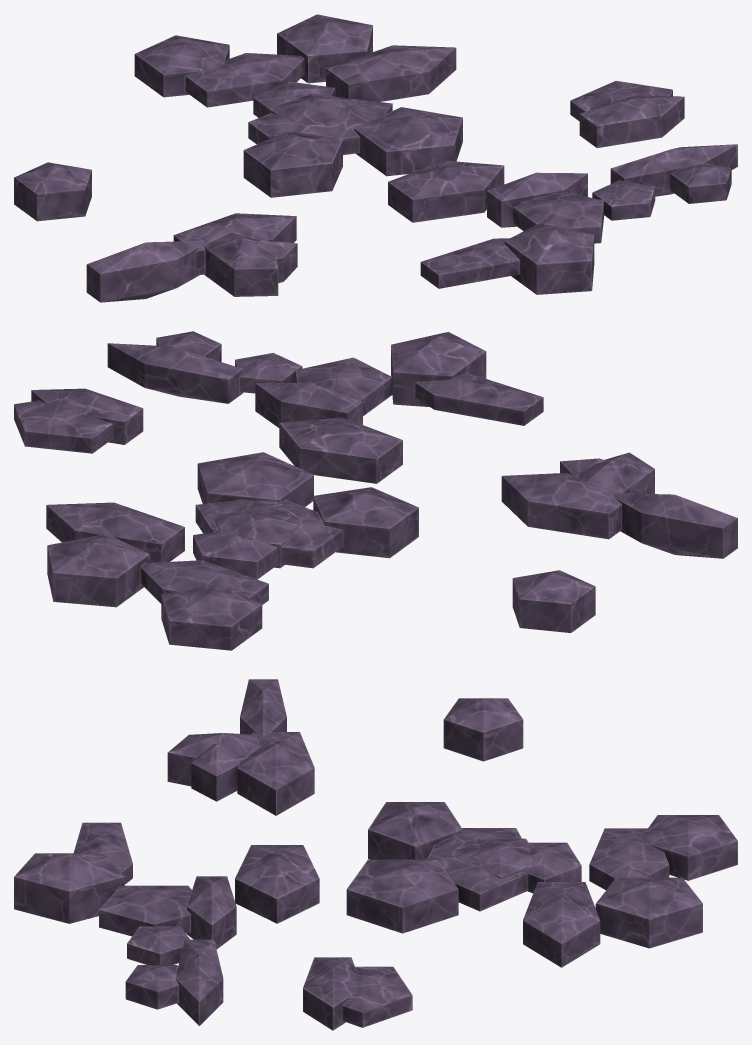
File: underworld-ground-fracture-shale-scree.glb
3 renders of one model, top to bottom at view 1: azimuth 30°, elevation 25°; view 2: azimuth 150°, elevation 25°; view 3: azimuth 270°, elevation 25°, orthographic. The views are drawn at different scales.
Visible parts, largest first — view 1: mineral-fragments; view 2: mineral-fragments; view 3: mineral-fragments.
Part boxes in pixels (box(x1,y1,x2,y2)): mineral-fragments: box(14, 14, 737, 302); mineral-fragments: box(14, 331, 737, 650); mineral-fragments: box(14, 679, 737, 1030).
Bounding box in the file's own units: 3.42 × 0.317 × 3.21.
Materials: 1 (1 with a texture image).
